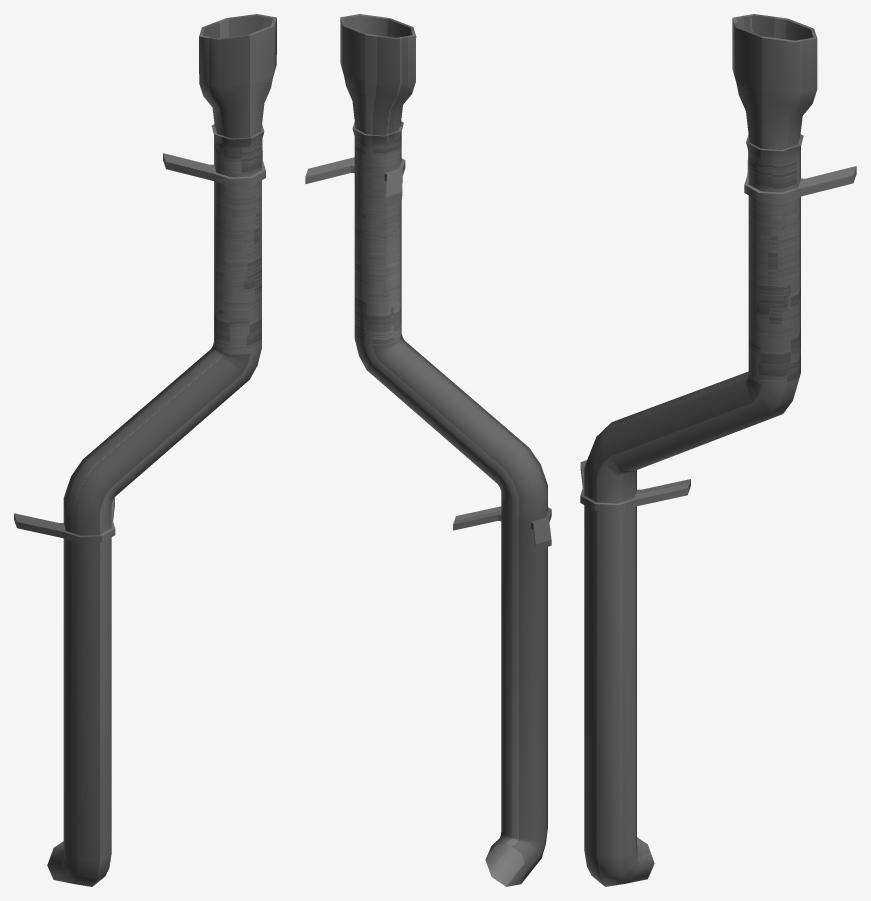
Rendered from Gutter_02.fbx.
The picture shows the model from 3 angles, left to right: view 1: azimuth 30°, elevation 25°; view 2: azimuth 150°, elevation 25°; view 3: azimuth 330°, elevation 25°; orthographic projection. The views are drawn at different scales.
Parts seen in each view (by area): view 1: Gutter_02; view 2: Gutter_02; view 3: Gutter_02.
Part boxes in pixels (x1,y1,x2,y2): Gutter_02: (14,14,276,886); Gutter_02: (305,14,551,886); Gutter_02: (580,14,856,886).
Bounding box in the file's own units: 250 × 803 × 83.53.
1 material, 1 textured.
